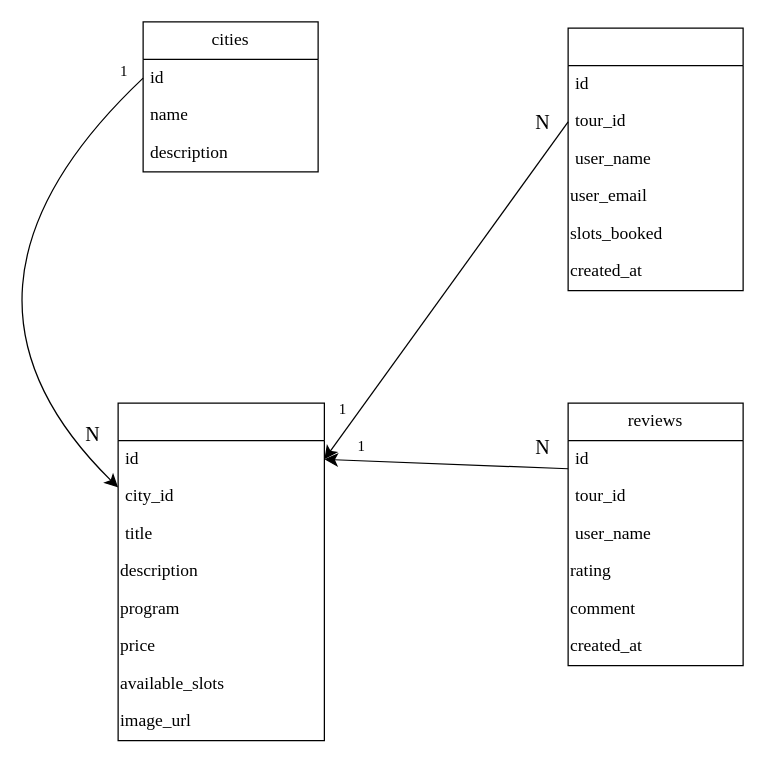
Some shapes in this 765 by 763 pixel diagram are drawn without their labels. The shapes that lost their labels are listed below. From the top down, each one's box as (x1, y1, x2, y2) in pixels, then its label:
(567, 27, 743, 291): bookings
(117, 402, 324, 741): tours
